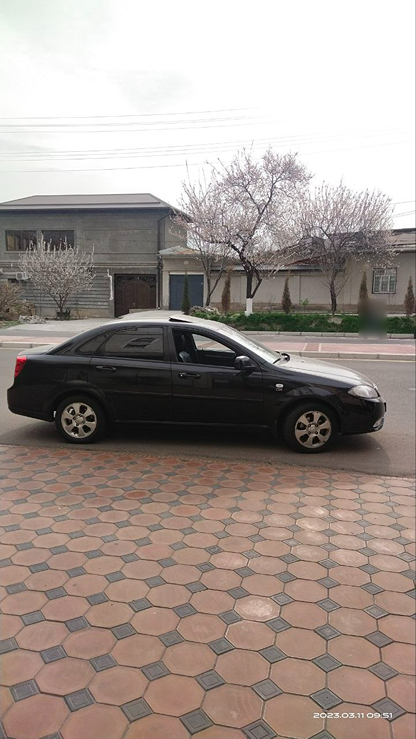car: (9, 291, 413, 455)
tree: (183, 136, 355, 304), (310, 175, 404, 299), (7, 235, 112, 309)
